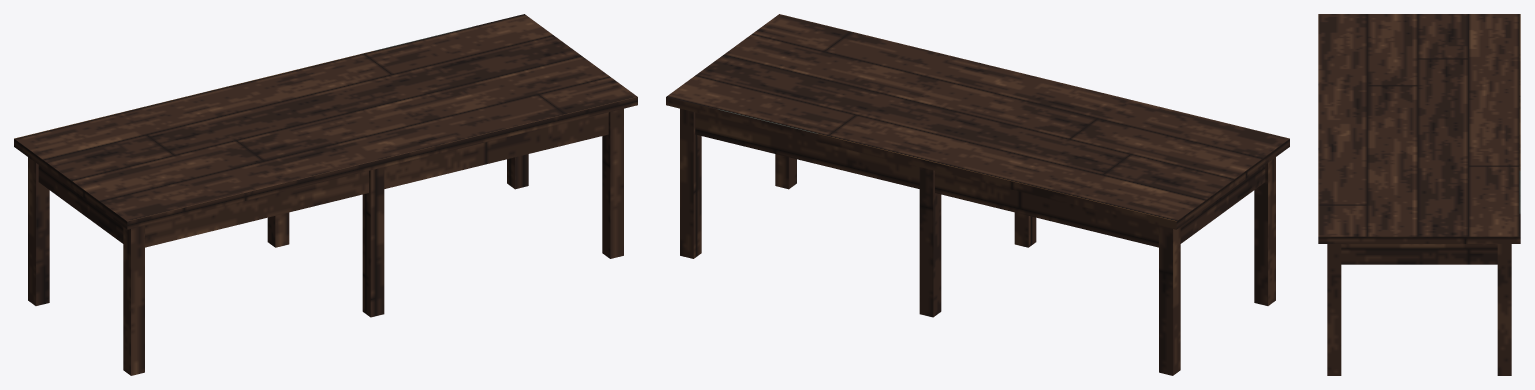
The model's file is Furn_Table_Long.fbx.
3 views of the same model, side by side, from view 1: azimuth 30°, elevation 25°; view 2: azimuth 150°, elevation 25°; view 3: azimuth 270°, elevation 25° (orthographic). The views are drawn at different scales.
Visible parts, largest first — view 1: Furn_Table_Long; view 2: Furn_Table_Long; view 3: Furn_Table_Long.
Boxes of the visible parts, <box> form: Furn_Table_Long: <box>14,14,637,375</box>; Furn_Table_Long: <box>666,14,1289,375</box>; Furn_Table_Long: <box>1318,14,1520,375</box>.
Size of the model in its own units: 2.6 by 0.78 by 1.
